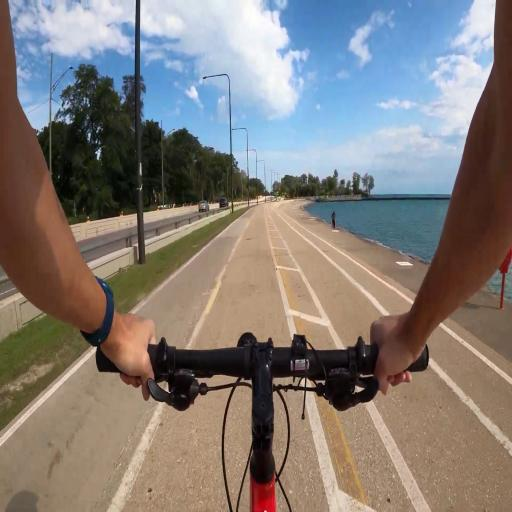Street_Light: (129, 0, 150, 270), (40, 42, 75, 193), (201, 67, 237, 210), (228, 123, 254, 210), (244, 147, 260, 203), (254, 157, 269, 197), (267, 166, 275, 189)
